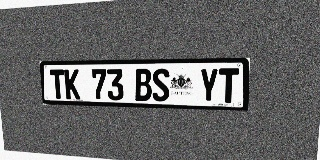3: (107, 69, 124, 100)
7: (91, 69, 107, 100)
B: (134, 69, 152, 101)
K: (64, 69, 80, 99)
S: (152, 69, 170, 102)
T: (219, 68, 239, 103), (49, 69, 65, 99)
Y: (199, 68, 219, 103)
